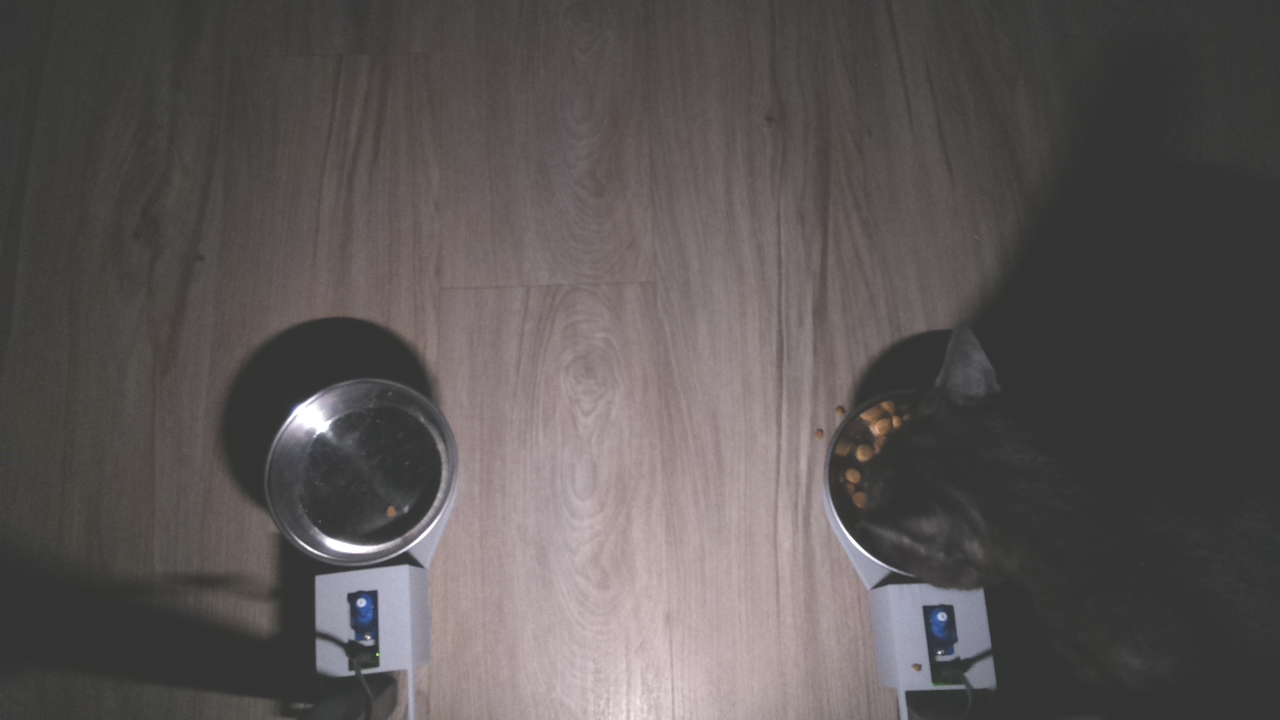open_bowl: (258, 380, 463, 572)
saki_eating: (818, 319, 1064, 597)
